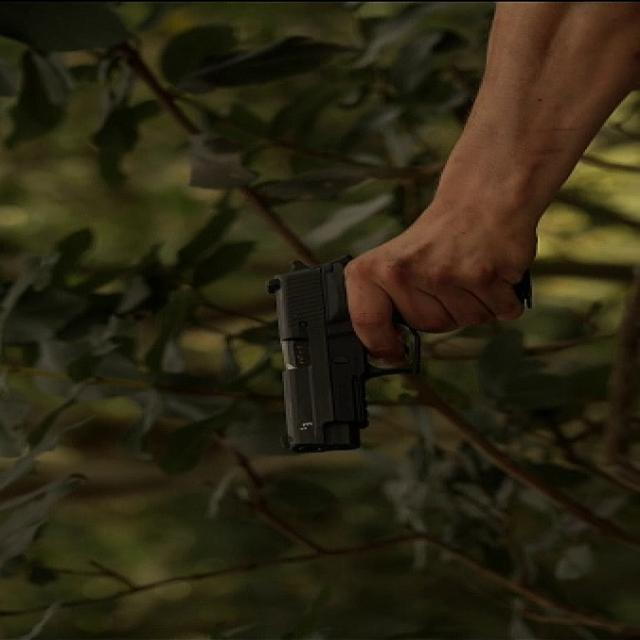weapons: (243, 246, 520, 459)
